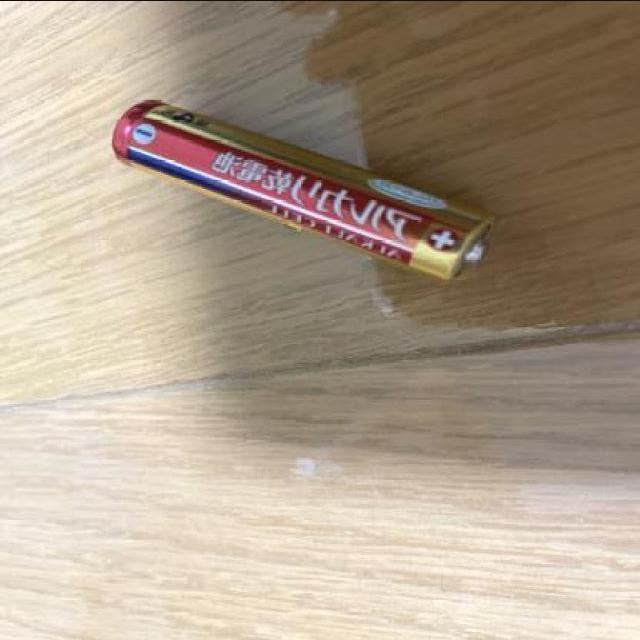AAA: (91, 89, 514, 282)
